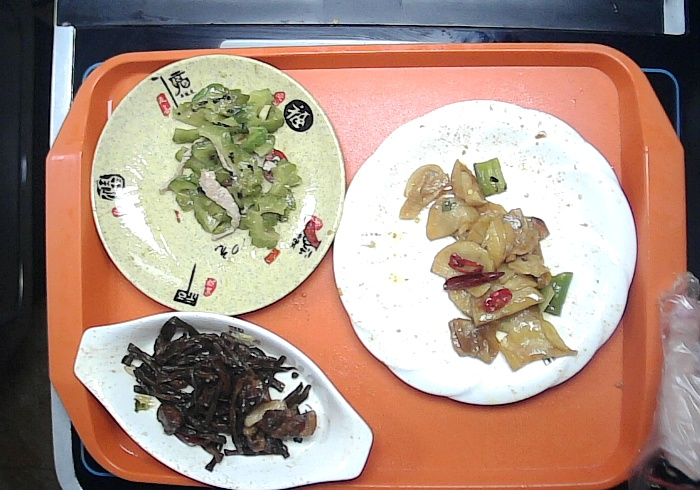NLDX-Bai_Zhe_Yuan_Pan: (330, 92, 638, 408)
NLDX-Fu_Zi_Yuan_Pan: (87, 52, 345, 318)
NLDX-Yu_Pan: (72, 310, 376, 490)
